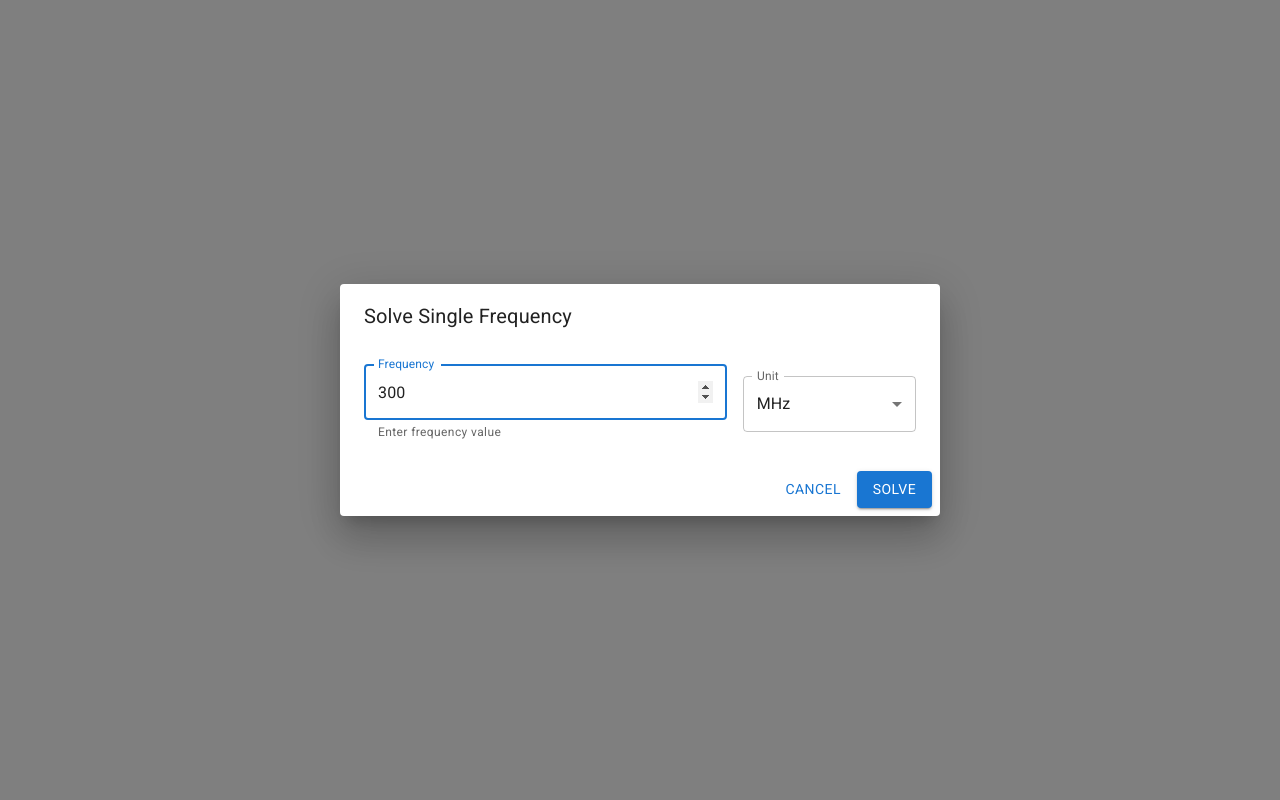
Scenario: FrequencyInputDialog - T4.B1.1 › Error handling › displays error message when solve fails
What coordinates should you click on to do the following:
click the button "Solve"
I would click on:
 (894, 489)
Its box is [857,471,932,508].
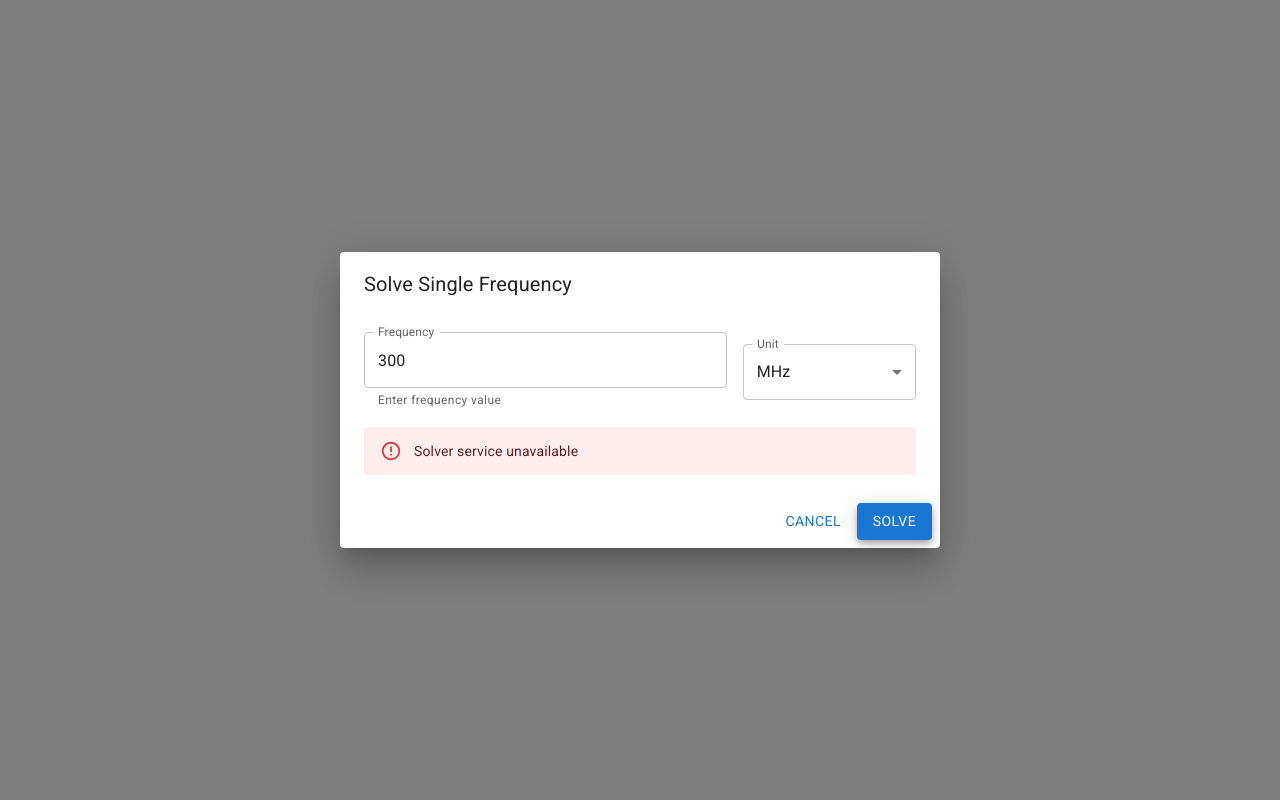
Expected: the text "Solver service unavailable" is shown, [414,443,578,459]
